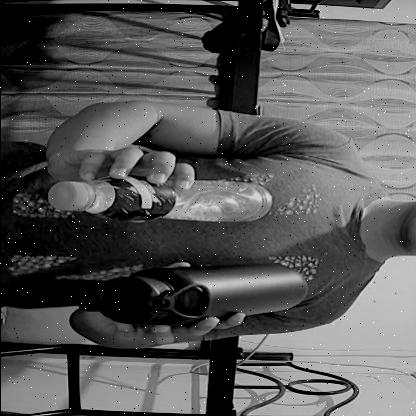Plastic Bottle: (33, 167, 276, 226)
